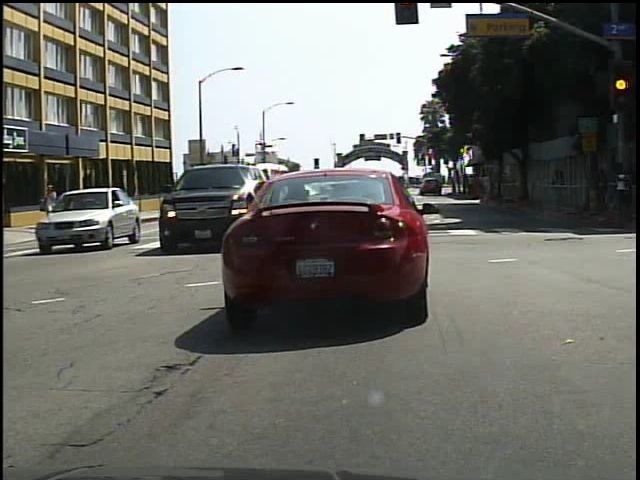person: (44, 182, 62, 215)
